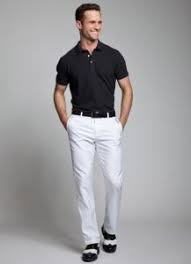F_belt: (67, 105, 126, 123)
F_dress pants: (63, 110, 125, 242)
S_polo shirt: (58, 45, 132, 112)
